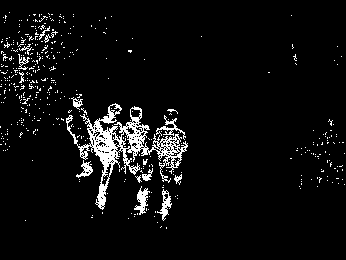person: (152, 107, 189, 220), (90, 102, 126, 211), (122, 104, 153, 217), (68, 91, 96, 178)
